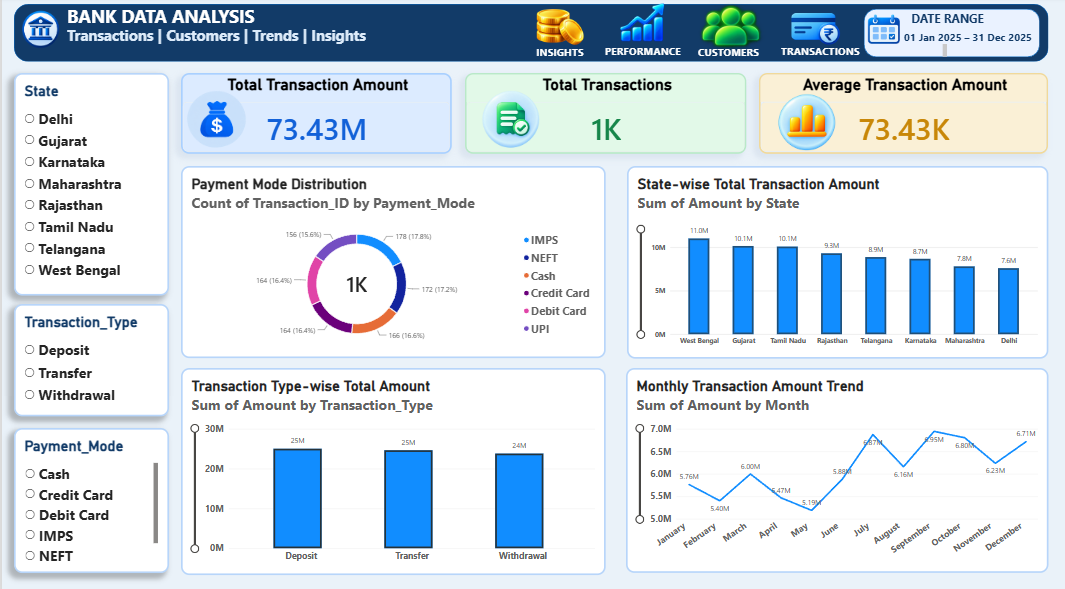

Layout of this report page (visuals, bound fields, positions):
{"tool":"powerbi","page":{"name":"Page 1","canvas":[1920,1080],"ordinal":0},"visuals":[{"type":"cardVisual","title":"Total Transaction Amount","fields":{"Data":["Sum(bank_transactions.Amount)"]},"box":[323.2,138,488.8,145.8],"z":0},{"type":"cardVisual","title":"Total Transactions","fields":{"Data":["Count(bank_transactions.Transaction_ID)"]},"box":[835.6,138,508.5,145.8],"z":1000},{"type":"cardVisual","title":"Average Transaction Amount","fields":{"Data":["Avg(bank_transactions.Amount)"]},"box":[1367.7,138,522.3,145.8],"z":2000},{"type":"clusteredColumnChart","title":"Transaction Type-wise Total Amount","fields":{"Category":["bank_transactions.Transaction_Type"],"Y":["Sum(bank_transactions.Amount)"]},"box":[323.2,670.1,766.6,374.5],"z":3000},{"type":"lineChart","title":"Monthly Transaction Amount Trend","fields":{"Category":["bank_transactions.Transaction_Date.Variation.Date Hierarchy.Month"],"Y":["Sum(bank_transactions.Amount)"]},"box":[1126.3,670.2,763.5,370.4],"z":4000},{"type":"donutChart","title":"Payment Mode Distribution","fields":{"Category":["bank_transactions.Payment_Mode"],"Y":["CountNonNull(bank_transactions.Transaction_ID)"]},"box":[323.2,305.5,766.6,346.9],"z":5000},{"type":"clusteredColumnChart","title":"State-wise Total Transaction Amount","fields":{"Category":["bank_transactions.State"],"Y":["Sum(bank_transactions.Amount)"]},"box":[1128.8,304.9,760.9,347.7],"z":6000},{"type":"listSlicer","fields":{"Values":["bank_transactions.State"]},"box":[21.7,138,279.9,402],"z":7000},{"type":"listSlicer","fields":{"Values":["bank_transactions.Transaction_Type"]},"box":[21.7,553.8,279.9,203],"z":8000},{"type":"listSlicer","fields":{"Values":["bank_transactions.Payment_Mode"]},"box":[21.7,778.5,279.7,262],"z":9000},{"type":"shape","box":[21.7,11.8,1868.3,104.5],"z":9001},{"type":"textbox","box":[118.2,11.8,421.8,94.6],"z":9002},{"type":"textbox","box":[118.2,51.2,607,55.2],"z":9003},{"type":"image","box":[0,0,139.9,116.3],"z":9004},{"type":"shape","box":[1556.9,21.7,317.3,86.7],"z":9005},{"type":"textbox","box":[1600.3,23.6,319.3,299.6],"z":9006},{"type":"image","box":[1509.6,5.9,167.5,106.4],"z":9007},{"type":"textbox","box":[1629.9,59.1,289.7,299.6],"z":9008},{"type":"image","box":[1316.5,11.8,299.6,80.8],"z":9009},{"type":"image","box":[1194.3,5.9,244.4,100.5],"z":9010},{"type":"image","box":[1030.7,5.9,244.4,80.8],"z":9011},{"type":"image","box":[884.9,11.8,244.4,80.8],"z":9012},{"type":"textbox","box":[857.3,86.7,300,300],"z":9013},{"type":"textbox","box":[1089.9,84.7,299.6,45.3],"z":9014},{"type":"textbox","box":[1257.4,86.7,300,300],"z":9015},{"type":"textbox","box":[1407.2,84.7,299.6,23.6],"z":9016},{"type":"image","box":[329.1,116.3,120.2,208.9],"z":9017},{"type":"image","box":[782.4,167.5,273.9,106.4],"z":9018},{"type":"image","box":[1316.5,173.4,273.9,106.4],"z":9019}]}

Visuals, with their boxes in screenshot pixels (x1, y1, x2, y2), scaled from the page's 1920x1080 canvas onto the 1065x589 screenshot:
"Total Transaction Amount" cardVisual: left=179, top=75, right=450, bottom=155
"Total Transactions" cardVisual: left=463, top=75, right=746, bottom=155
"Average Transaction Amount" cardVisual: left=759, top=75, right=1048, bottom=155
"Transaction Type-wise Total Amount" clusteredColumnChart: left=179, top=365, right=604, bottom=570
"Monthly Transaction Amount Trend" lineChart: left=625, top=366, right=1048, bottom=568
"Payment Mode Distribution" donutChart: left=179, top=167, right=604, bottom=356
"State-wise Total Transaction Amount" clusteredColumnChart: left=626, top=166, right=1048, bottom=356
listSlicer - bank_transactions.State: left=12, top=75, right=167, bottom=294
listSlicer - bank_transactions.Transaction_Type: left=12, top=302, right=167, bottom=413
listSlicer - bank_transactions.Payment_Mode: left=12, top=425, right=167, bottom=567
shape: left=12, top=6, right=1048, bottom=63
textbox: left=66, top=6, right=300, bottom=58
textbox: left=66, top=28, right=402, bottom=58
image: left=0, top=0, right=78, bottom=63
shape: left=864, top=12, right=1040, bottom=59
textbox: left=888, top=13, right=1064, bottom=176
image: left=837, top=3, right=930, bottom=61
textbox: left=904, top=32, right=1064, bottom=196
image: left=730, top=6, right=896, bottom=51
image: left=662, top=3, right=798, bottom=58
image: left=572, top=3, right=707, bottom=47
image: left=491, top=6, right=626, bottom=51
textbox: left=476, top=47, right=642, bottom=211
textbox: left=605, top=46, right=771, bottom=71
textbox: left=697, top=47, right=864, bottom=211
textbox: left=781, top=46, right=947, bottom=59
image: left=183, top=63, right=249, bottom=177
image: left=434, top=91, right=586, bottom=149
image: left=730, top=95, right=882, bottom=153
